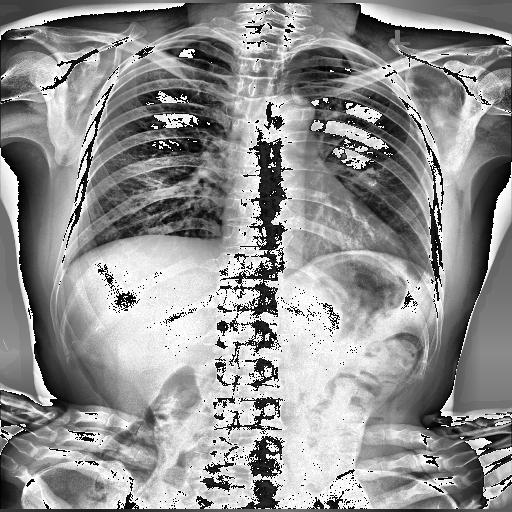0- Aortic enlargement: (267, 95, 316, 140)
13- Pulmonary fibrosis: (357, 166, 377, 190)
2- Calcification: (358, 167, 386, 187), (357, 166, 377, 190), (359, 166, 380, 186)
3- Cardiomegaly: (220, 214, 409, 272)
9- Other lesion: (358, 167, 386, 187), (357, 166, 377, 190)
